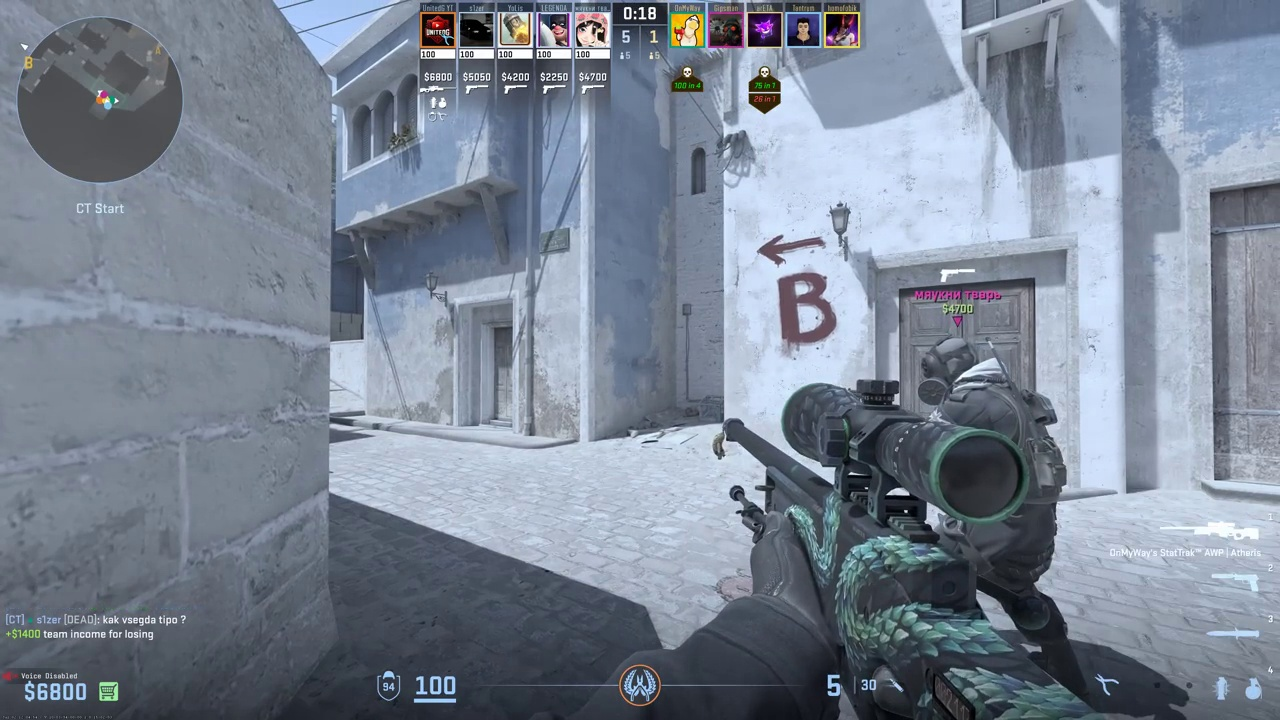CT: (916, 335, 1070, 688)
